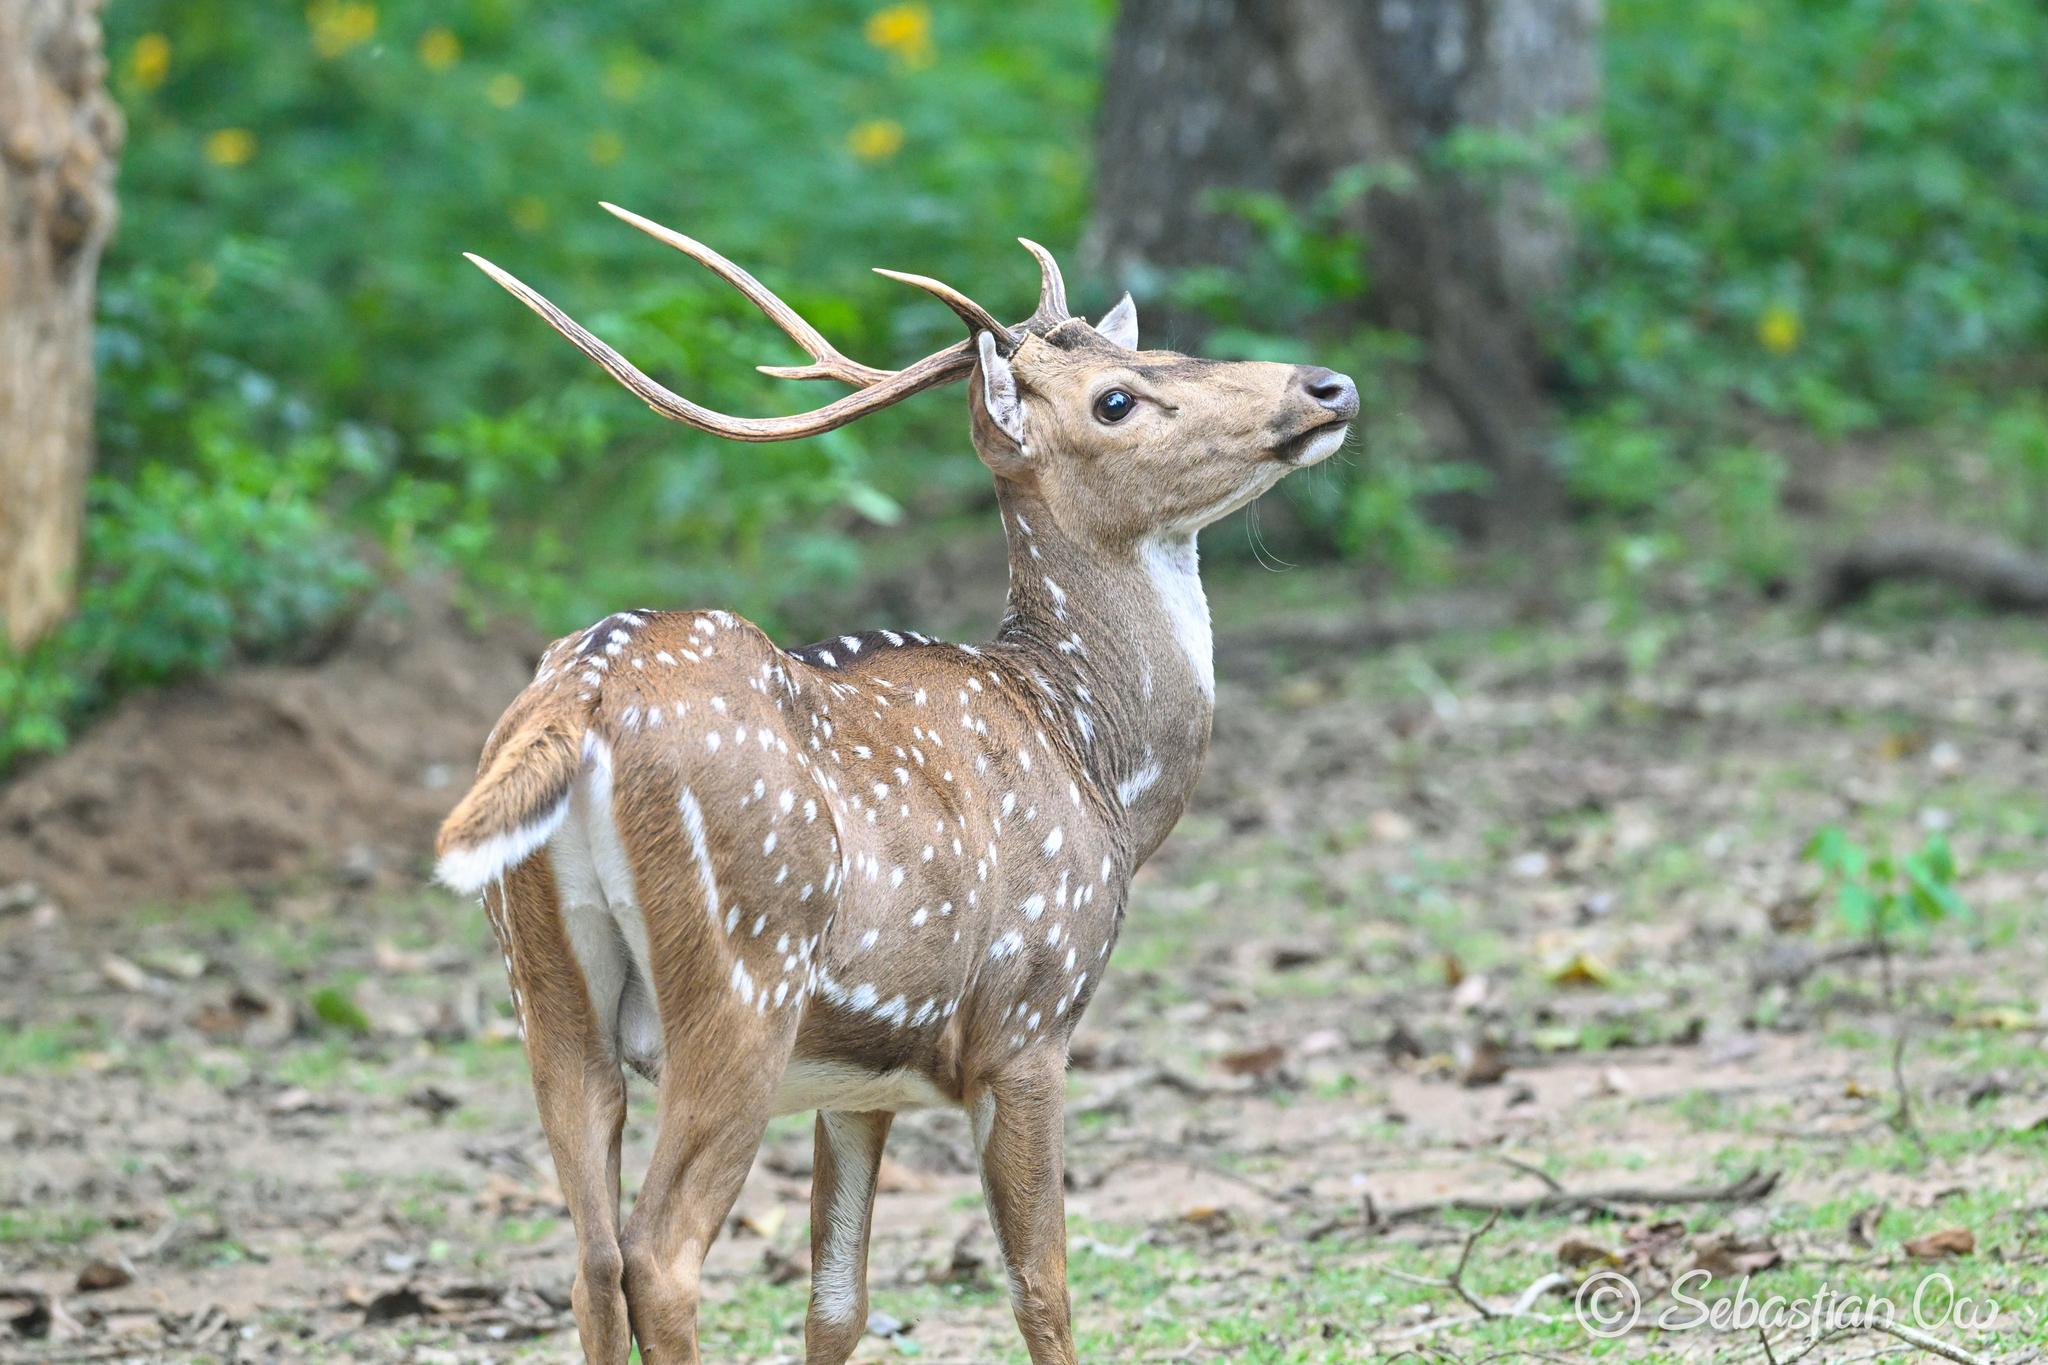Deer: (437, 204, 1357, 1360)
